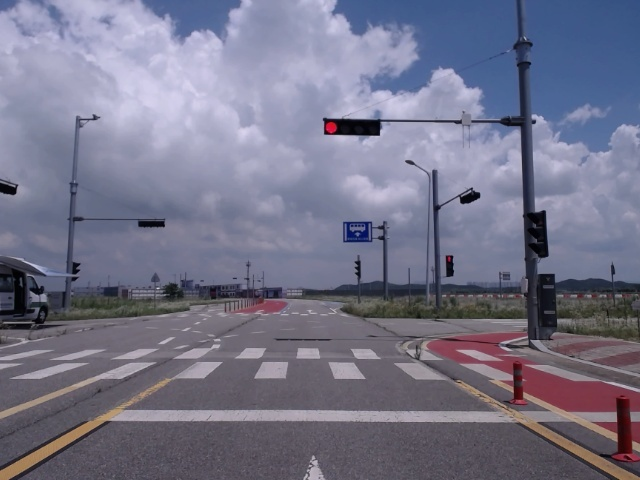red_4: (324, 121, 380, 136)
